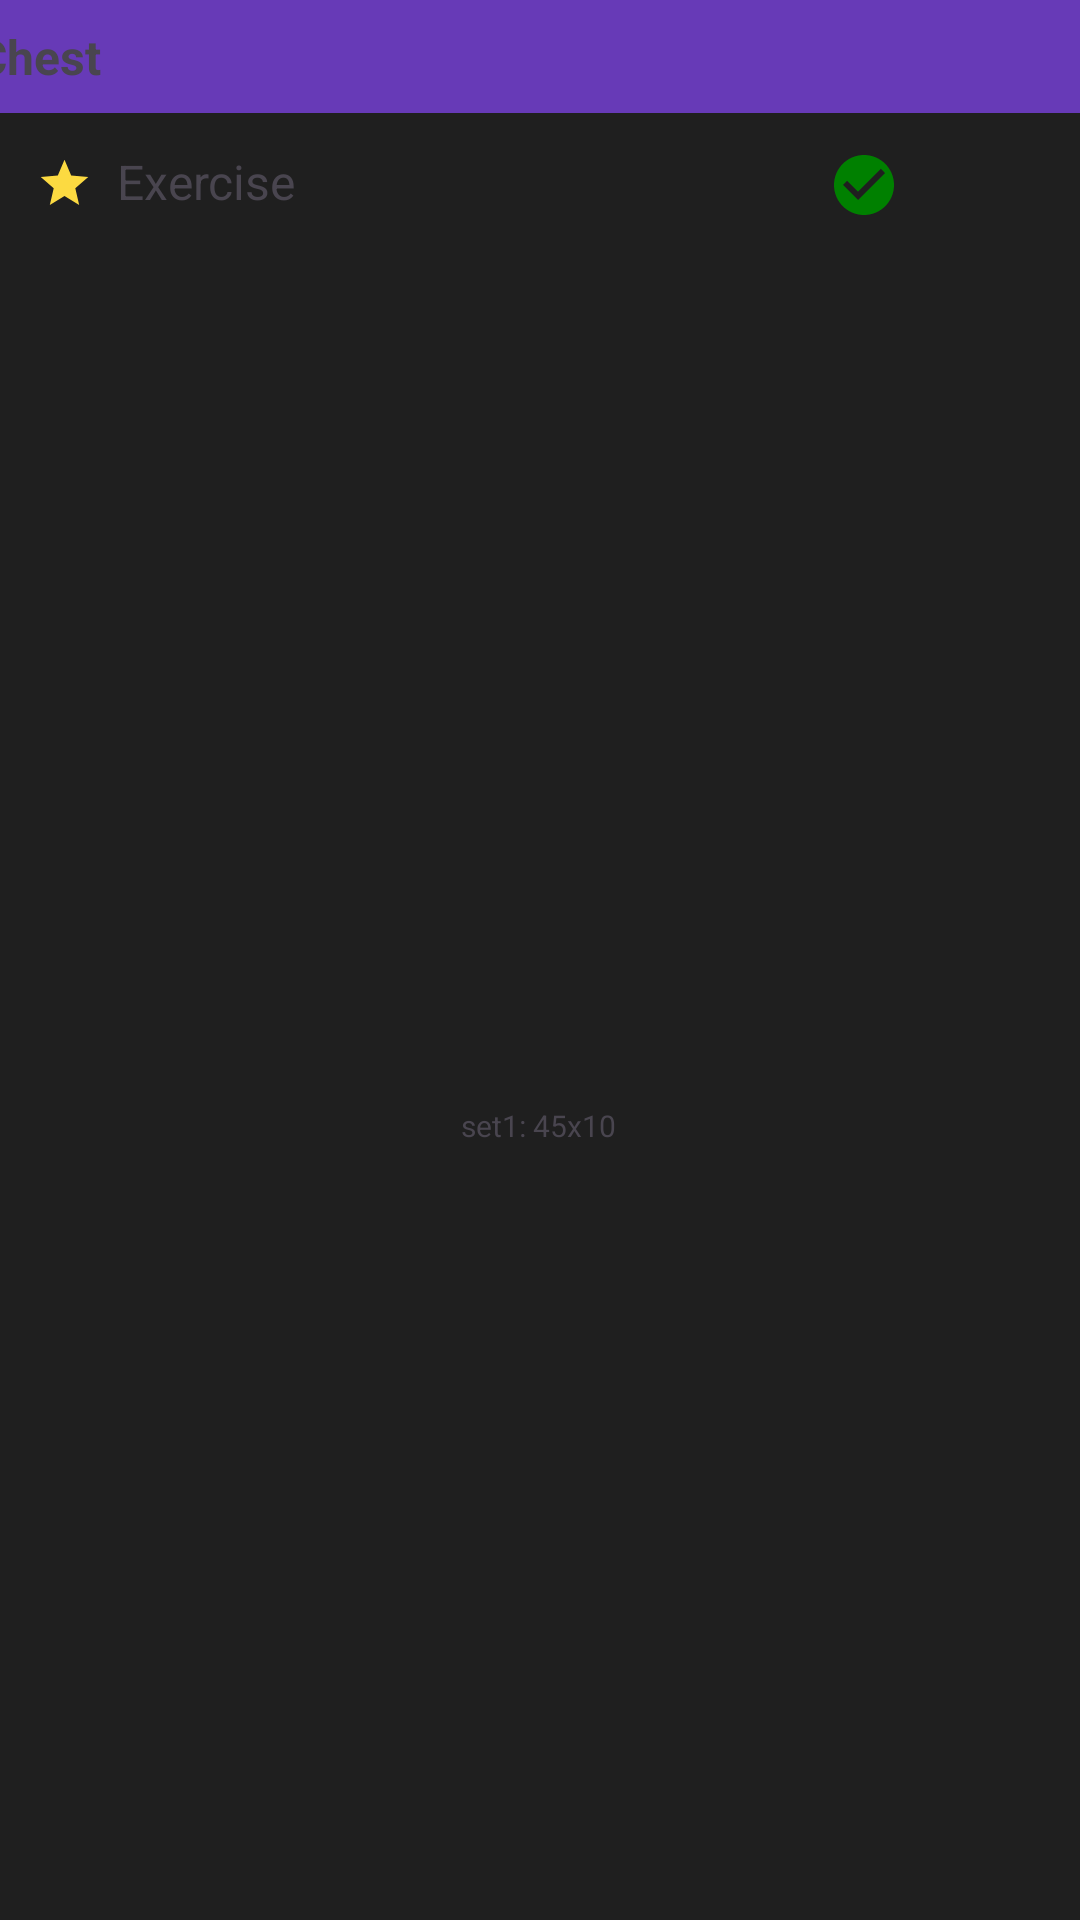

Named icons in this screenshot (1080x1920) and their bounding boxes, (x1, y1, x2, y2):
check circle: (834, 155, 894, 215)
star: (41, 160, 88, 205)
